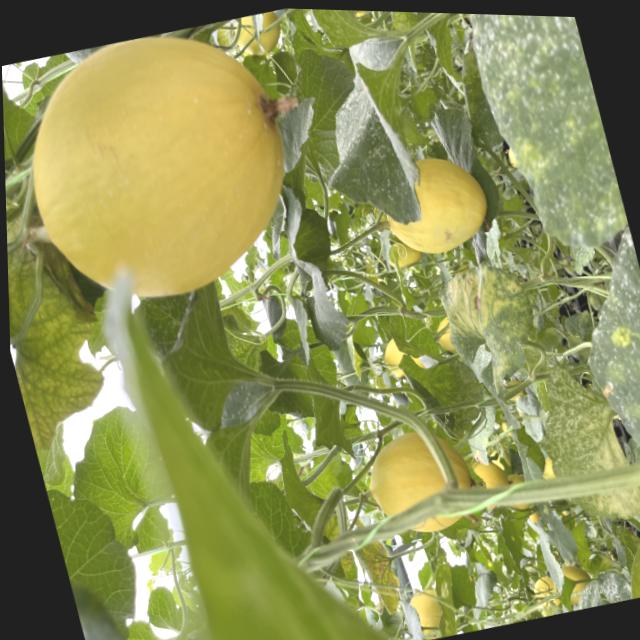alternaria leaf blight: (7, 233, 121, 454), (525, 352, 640, 534), (432, 255, 542, 388)
downy mildew: (123, 266, 270, 449), (297, 9, 374, 59)
healthy: (62, 389, 171, 573), (263, 167, 358, 342), (41, 463, 130, 628)
powdery mildew: (457, 14, 628, 249), (306, 53, 444, 236), (556, 216, 640, 469)
